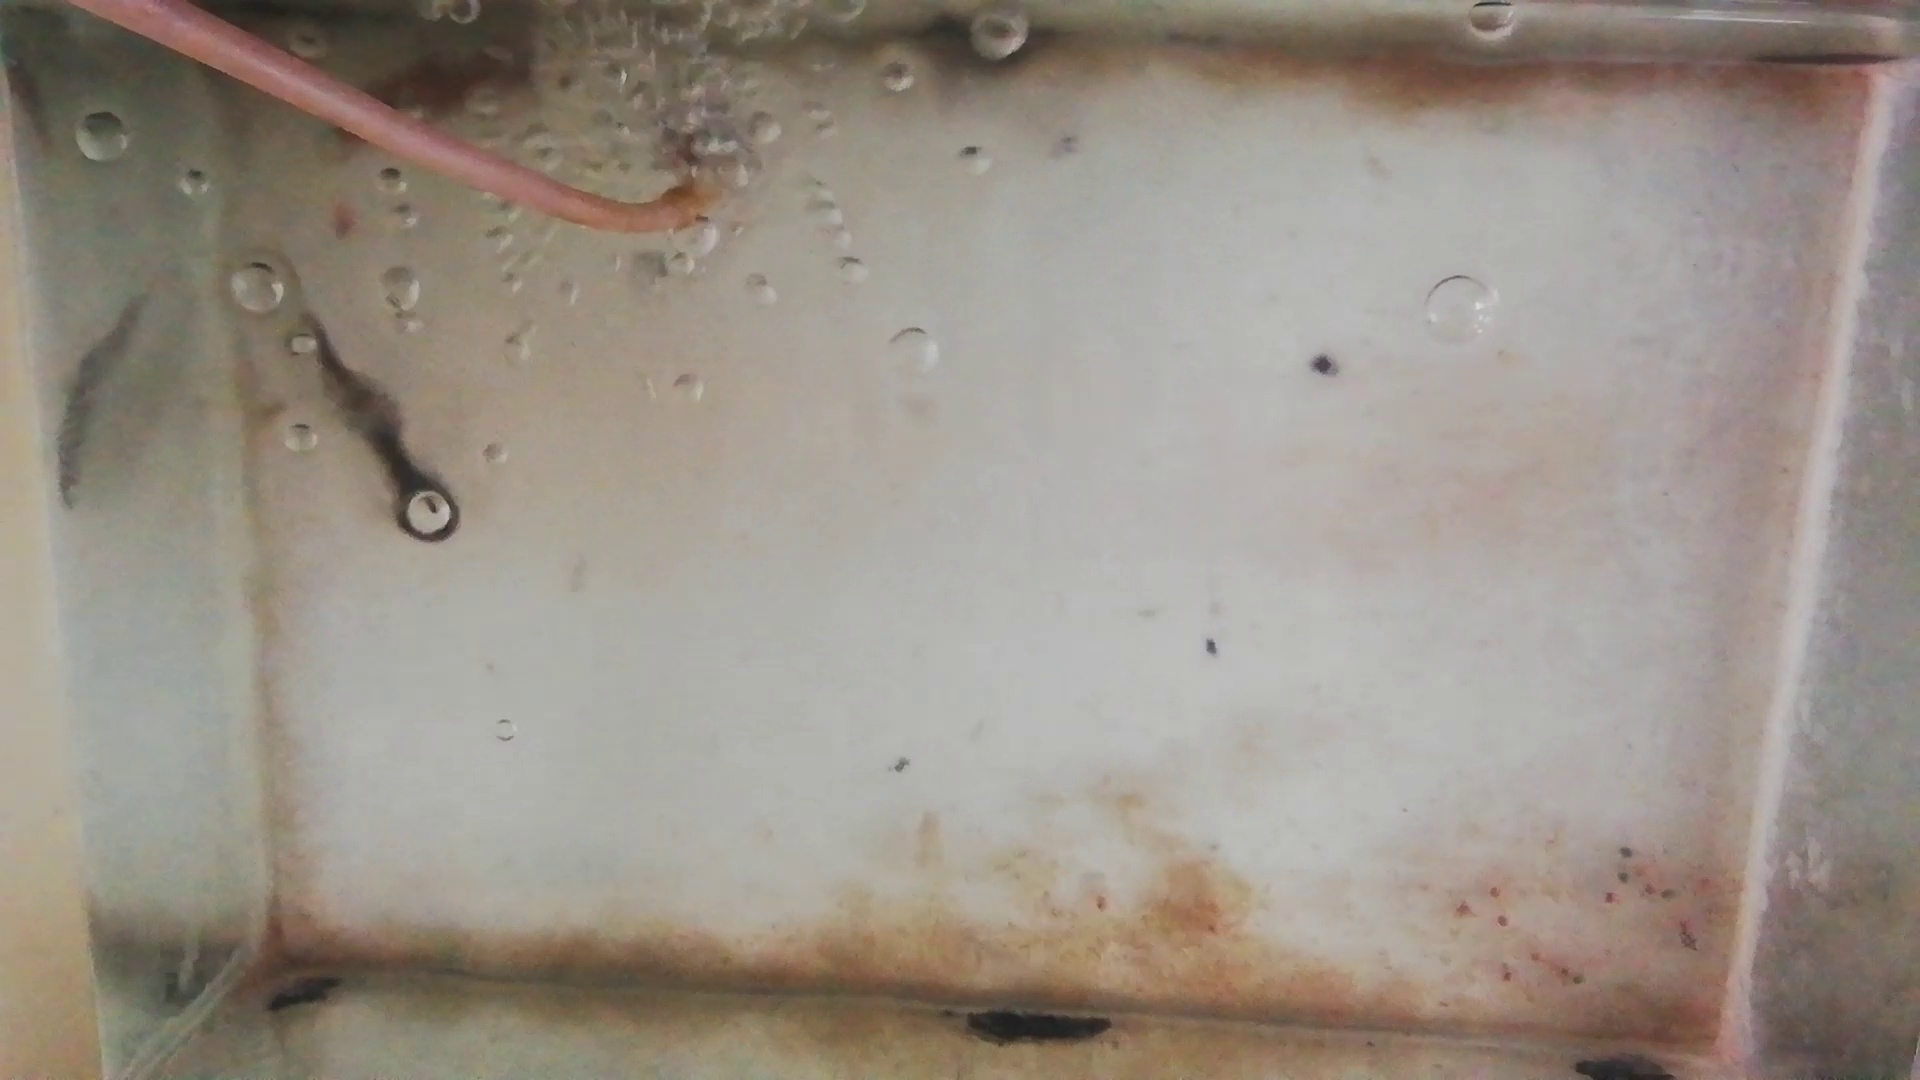fish: (302, 310, 455, 541), (360, 51, 543, 115)
